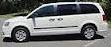headlight: (0, 19, 13, 31)
side_glass: (30, 3, 80, 21)
